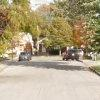Tree: (41, 0, 100, 48)
